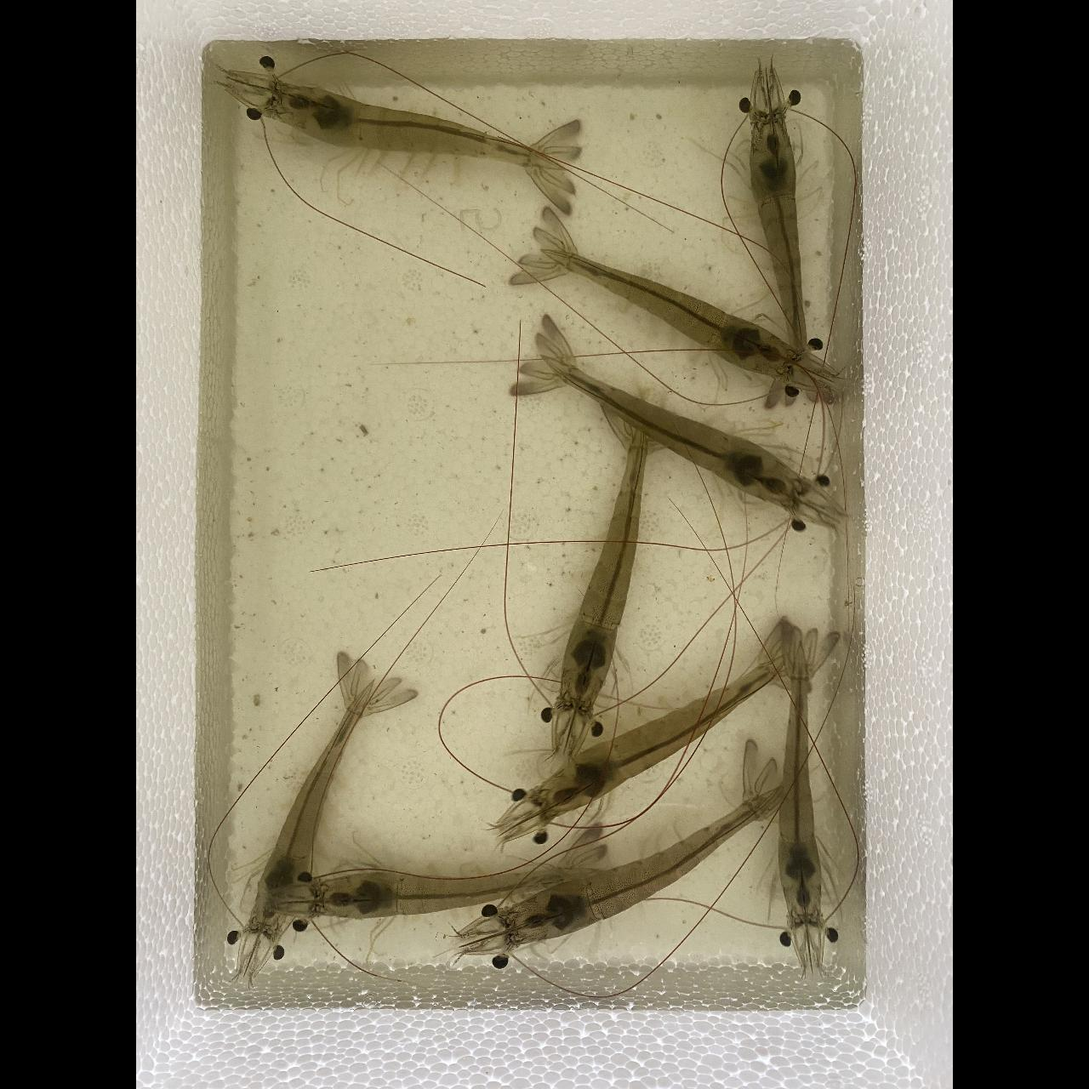top_shrimp: (509, 790, 776, 943), (548, 357, 796, 504), (543, 660, 779, 812), (555, 250, 791, 373), (254, 687, 368, 931), (269, 87, 562, 165), (562, 432, 645, 706), (749, 119, 803, 361), (315, 871, 567, 917), (778, 648, 820, 921)
